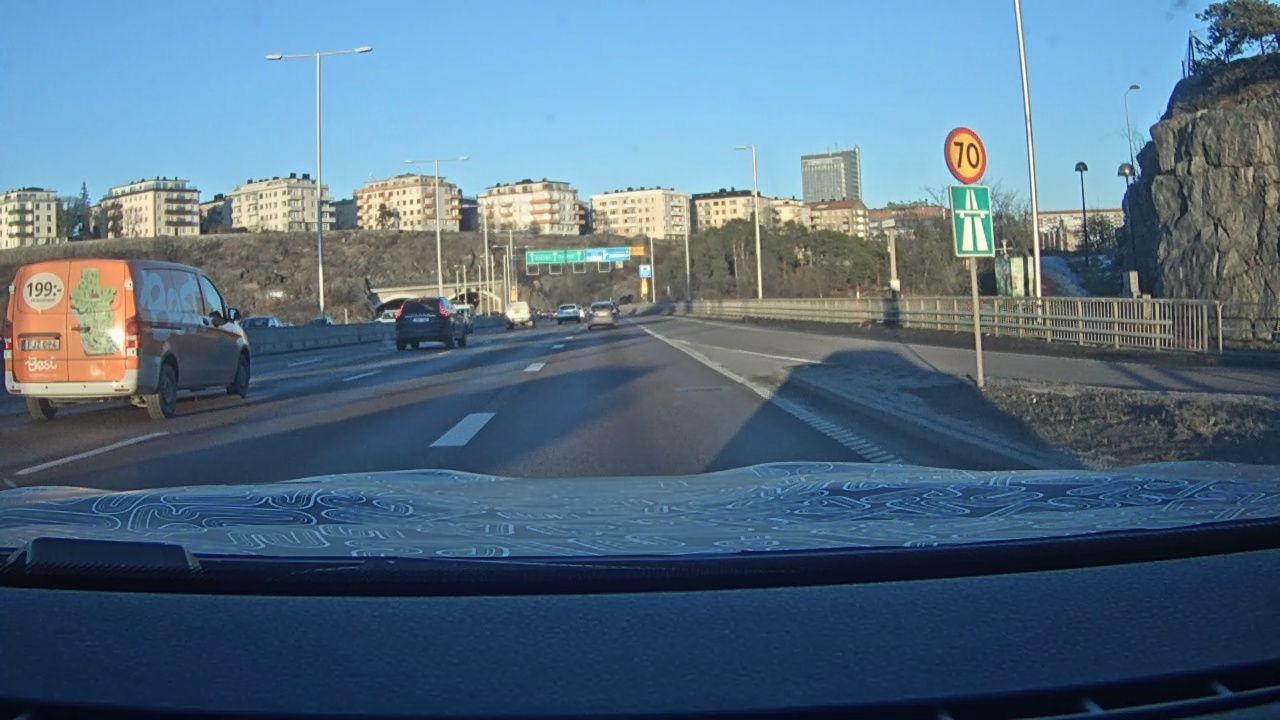Motorway_Begin: (949, 185, 996, 258)
